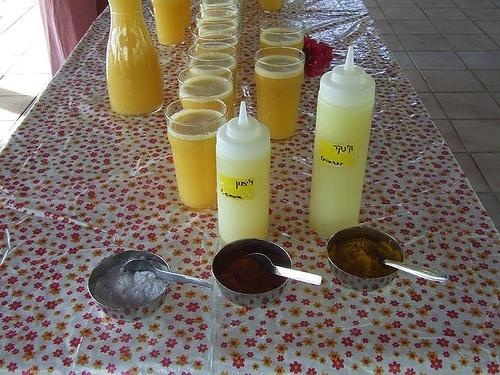bottle: (309, 46, 377, 241), (217, 100, 272, 247)
